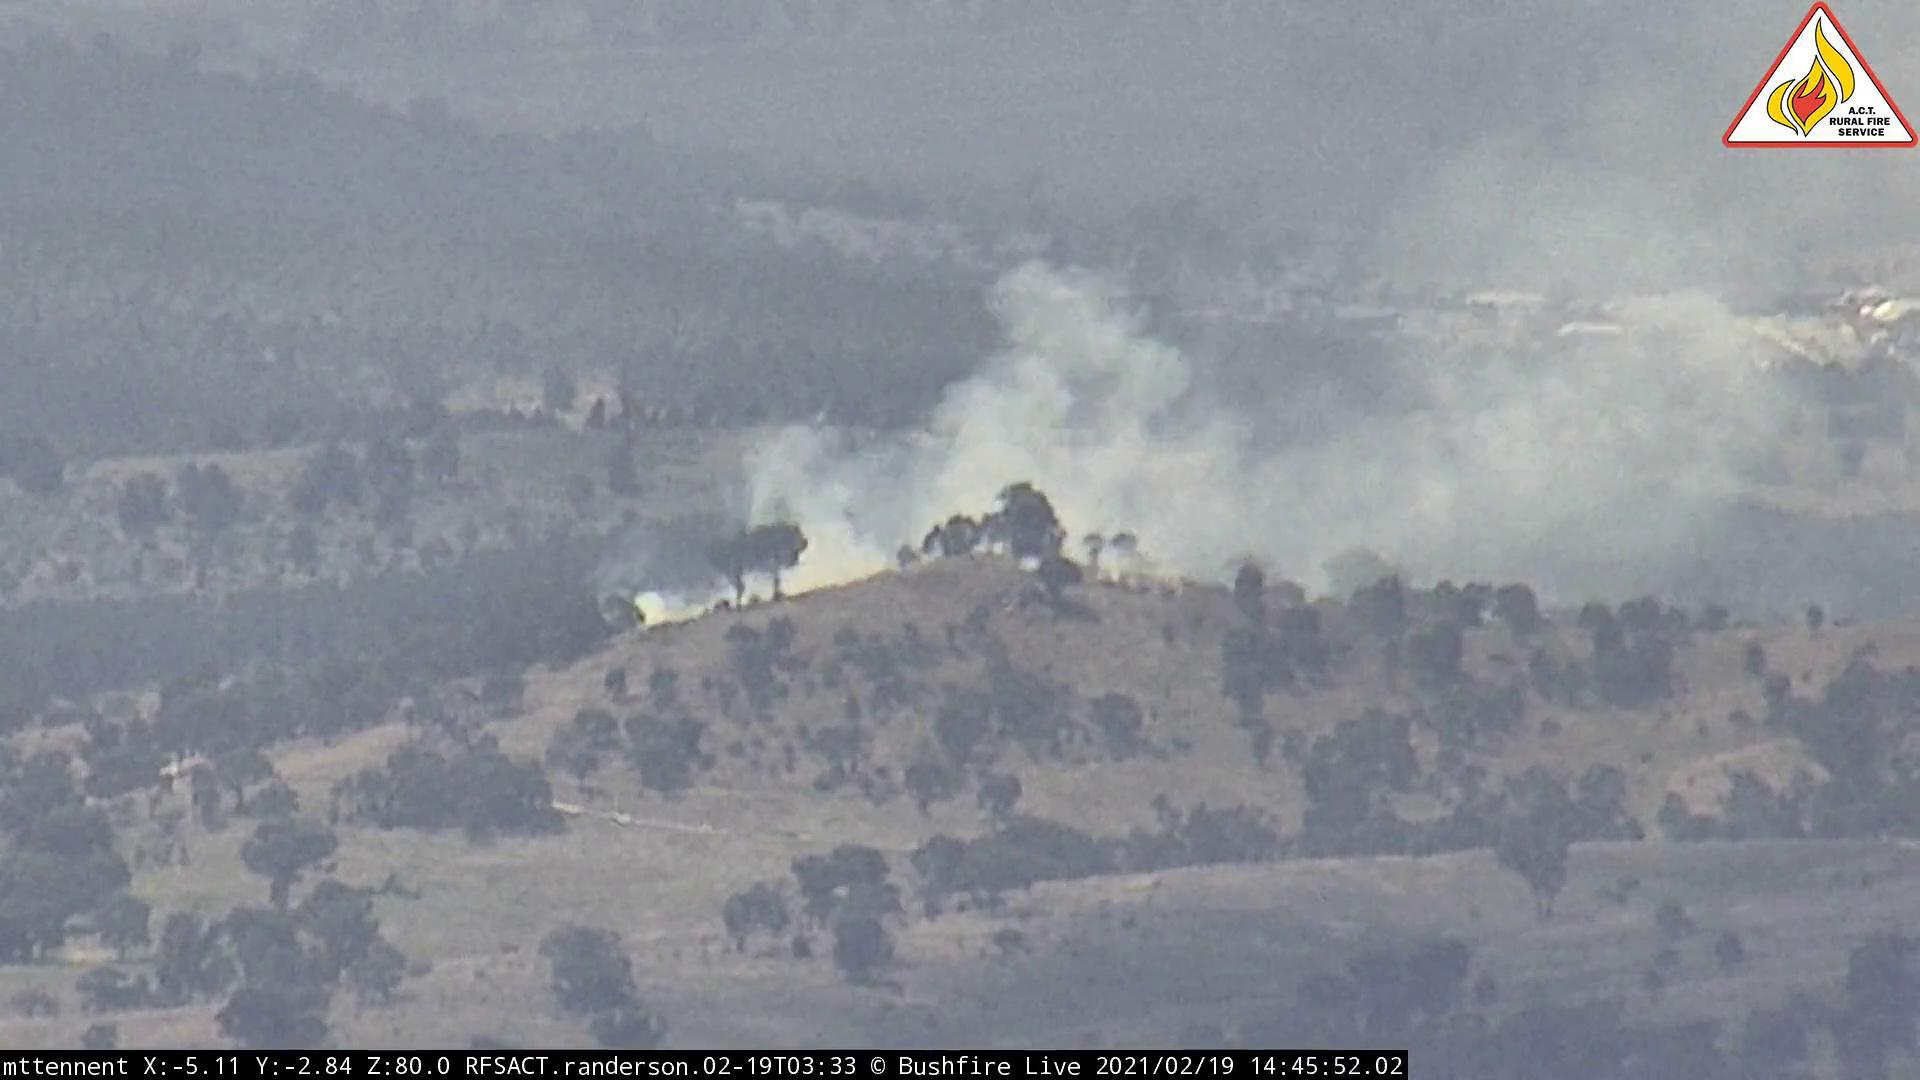Smoke: (622, 160, 1870, 647)
